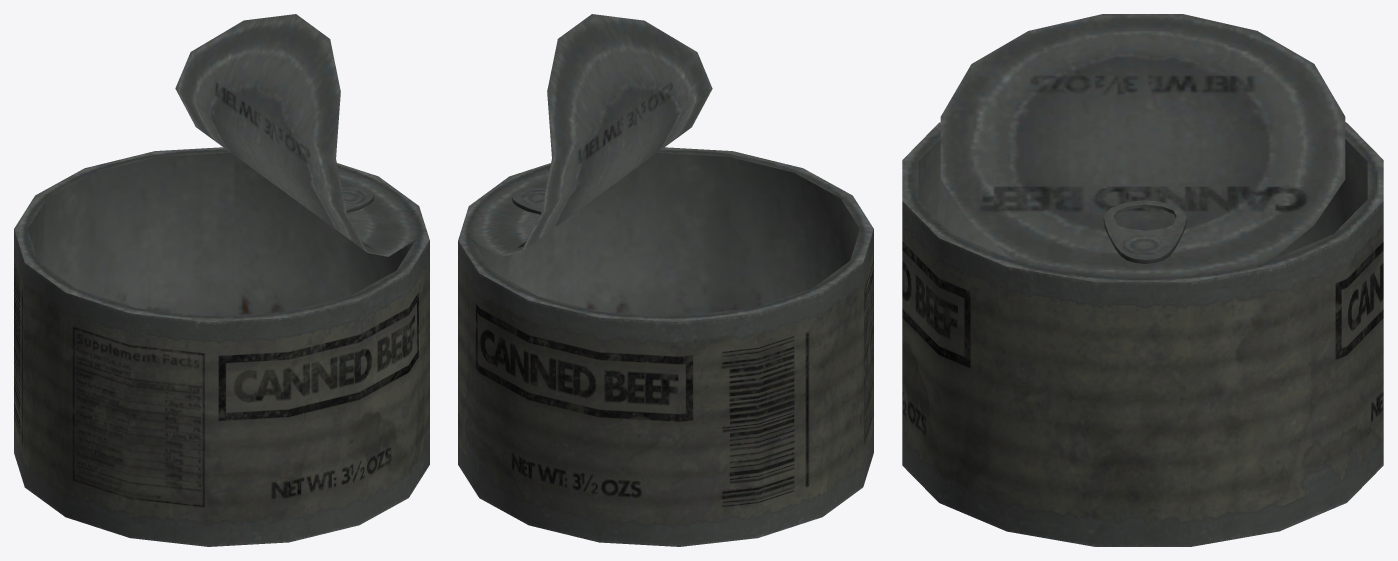
File: food_can_ration_open.dae
3 renders of one model, left to right at view 1: azimuth 30°, elevation 25°; view 2: azimuth 150°, elevation 25°; view 3: azimuth 270°, elevation 25°, orthographic. The views are drawn at different scales.
Parts seen in each view (by area): view 1: polySurface15; view 2: polySurface15; view 3: polySurface15.
Boxes of the visible parts, box(x1,y1,x2,y2) form: polySurface15: box(14, 14, 429, 546); polySurface15: box(458, 14, 873, 546); polySurface15: box(902, 14, 1383, 546).
Bounding box in the file's own units: 0.1315 × 0.1458 × 0.1315.
